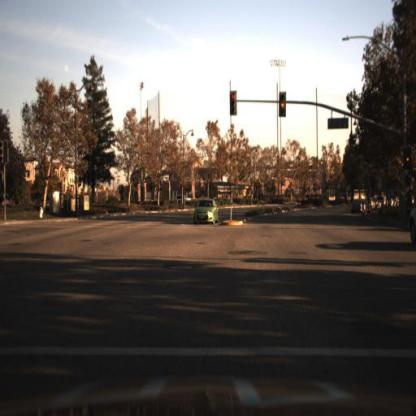biker: (323, 190, 331, 211)
car: (188, 196, 219, 229), (408, 188, 415, 250), (408, 197, 416, 251), (173, 191, 195, 208), (350, 196, 367, 217)
trafficLight: (279, 90, 289, 119)
trafficLight-RedLeft: (228, 88, 240, 117)
trafficLight-Yellow: (275, 85, 289, 126), (402, 147, 413, 174)
